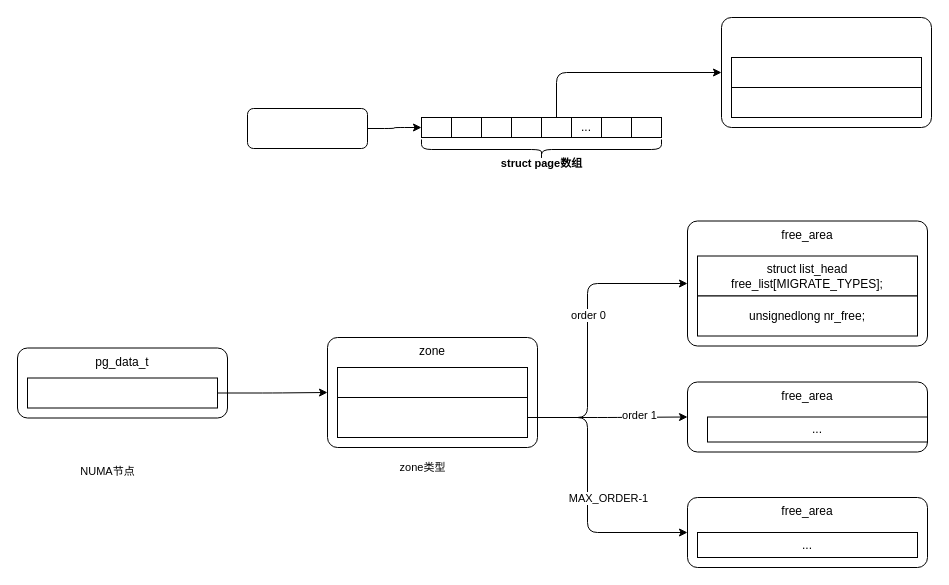
Some shapes in this 949 by 585 pixel diagram are drawn without their labels. The shapes that lost their labels are listed below. From the top down, each one's box as (x1, y1, x2, y2) in pixels, then its label:
(720, 16, 932, 128): page
(246, 108, 368, 148): struct page *mem_map
(26, 377, 218, 408): struct zone node_zones[];
(336, 366, 528, 398): unsigned long zone_start_pfn;
(336, 396, 528, 438): struct free_area free_area[MAX_ORDER]
